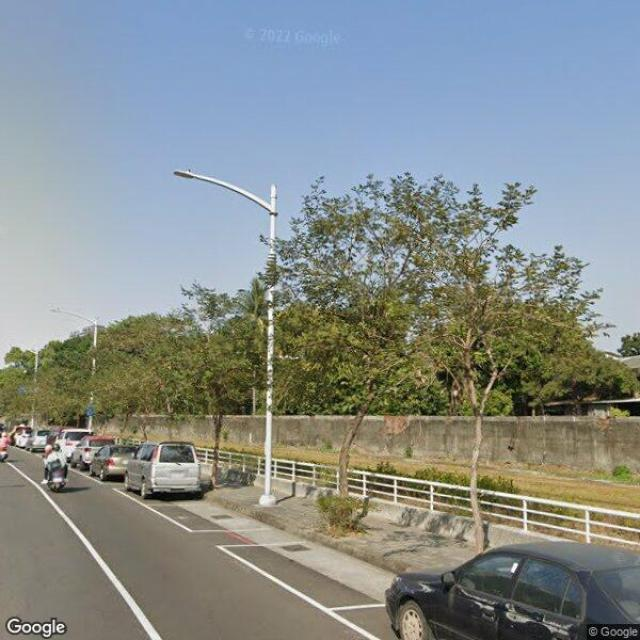Legalparking: (8, 408, 640, 640)
illegalparking: (0, 420, 72, 507)
